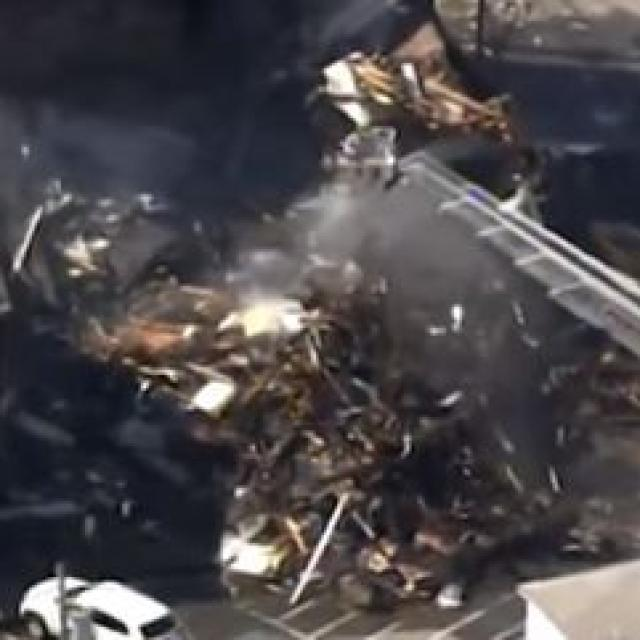collapsed_building: (8, 118, 576, 561)
